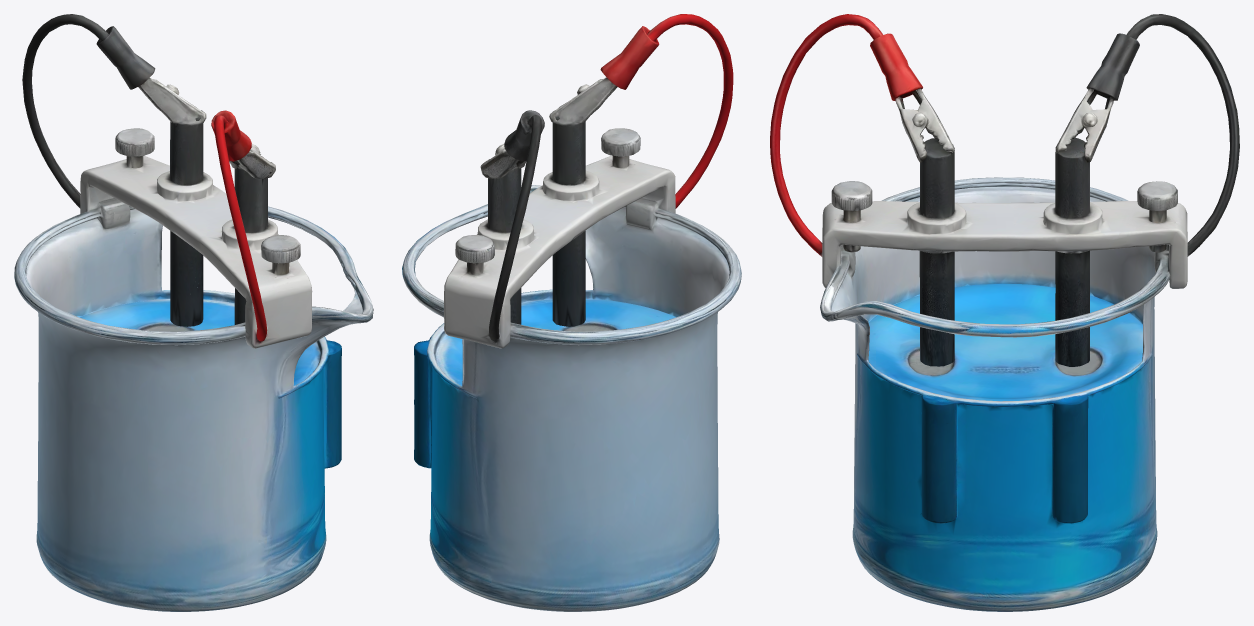
File: electrolysis-beaker.glb
3 renders of one model, left to right at view 1: azimuth 30°, elevation 25°; view 2: azimuth 150°, elevation 25°; view 3: azimuth 270°, elevation 25°, orthographic. The views are drawn at different scales.
Parts seen in each view (by area): view 1: electrolysis-beaker; view 2: electrolysis-beaker; view 3: electrolysis-beaker.
Boxes of the visible parts, left/top/right/bottom form: electrolysis-beaker: left=14, top=14, right=373, bottom=611; electrolysis-beaker: left=402, top=14, right=741, bottom=611; electrolysis-beaker: left=770, top=14, right=1239, bottom=611.
Size of the model in its own units: 0.1563 by 0.25 by 0.2049.
Materials: 1 (1 with a texture image).
